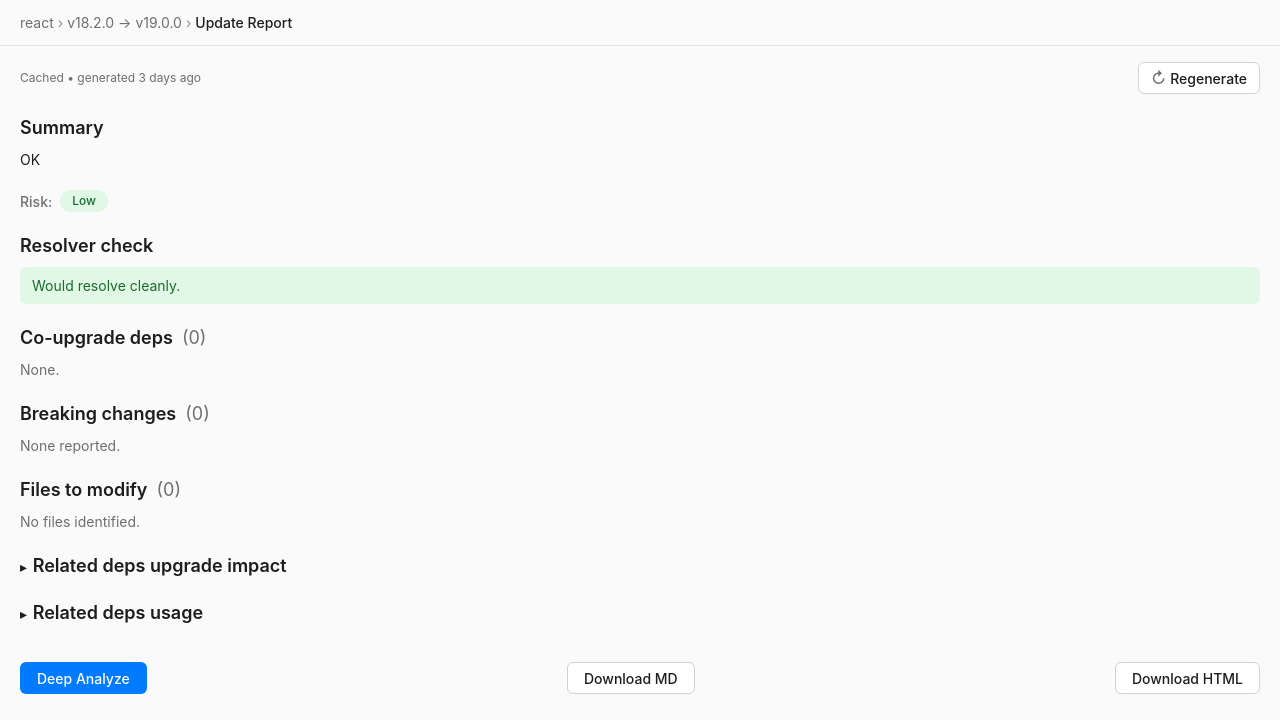
First-Deep-Analyze confirmation prompt › is suppressed when showDeepAnalyzeWarning is false (navigates directly)
Click the button with test id "deep-analyze" at (83, 678), box top-left (20, 662), bottom-right (147, 694)
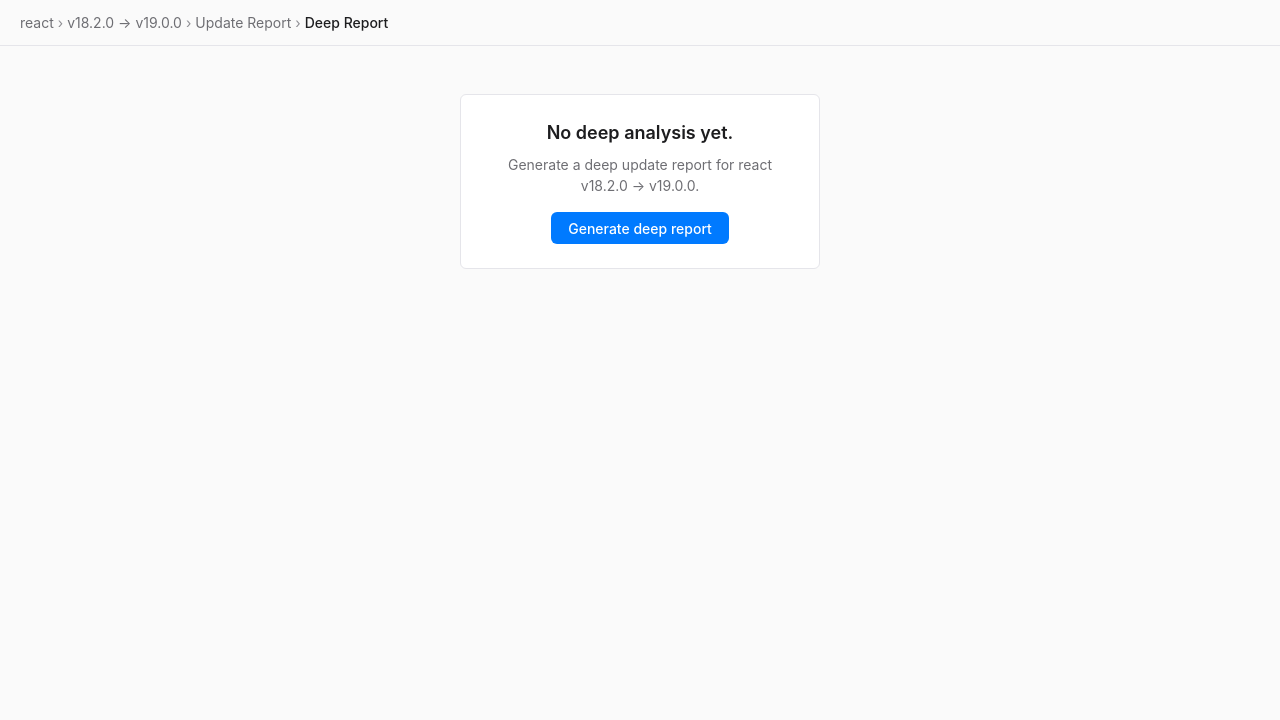
Expected: the heading "No deep analysis yet." is shown, top-left (547, 122), bottom-right (733, 143)
